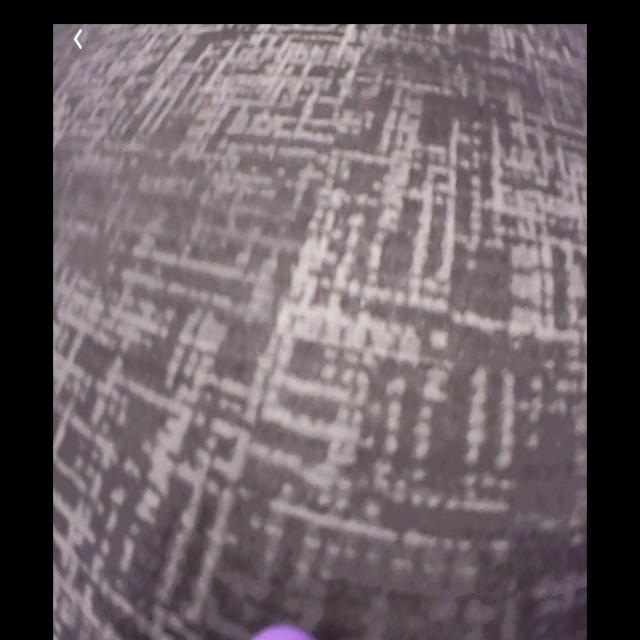ball: (251, 622, 322, 640)
